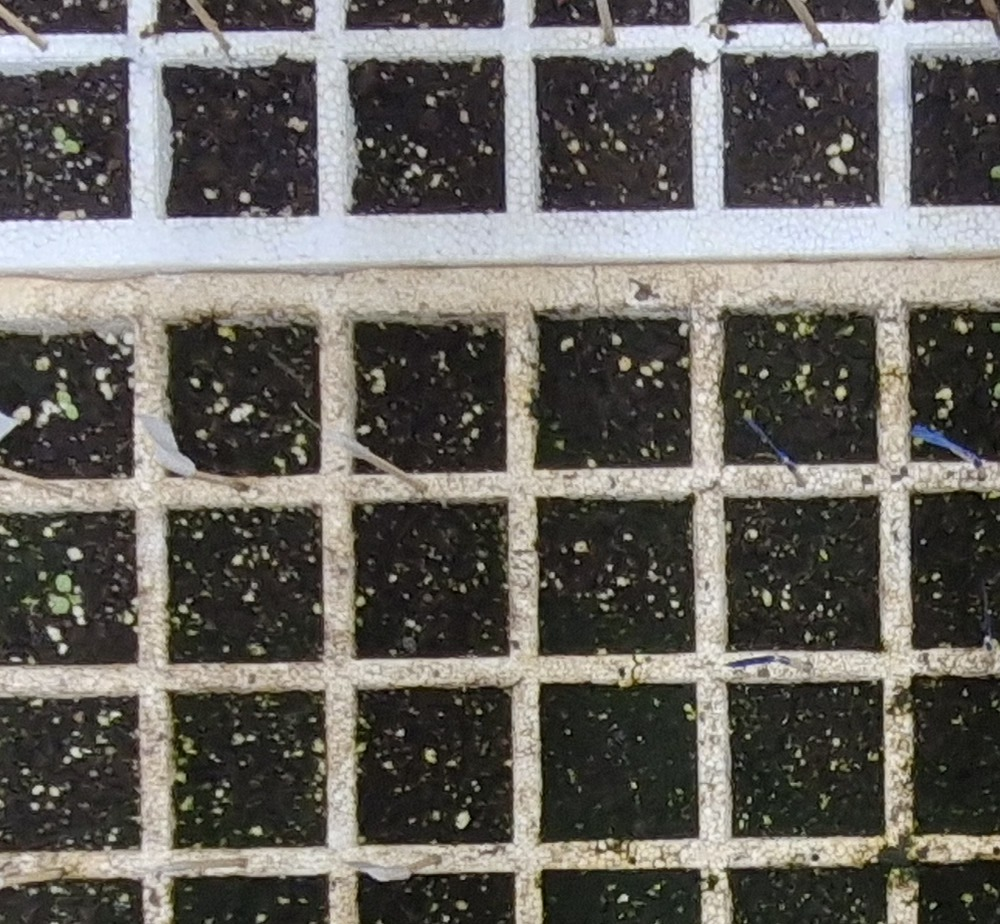Folha: (54, 598, 70, 614), (56, 575, 71, 592), (67, 405, 78, 419), (58, 392, 70, 404)
Germinacao: (53, 575, 80, 615), (59, 393, 78, 420)
